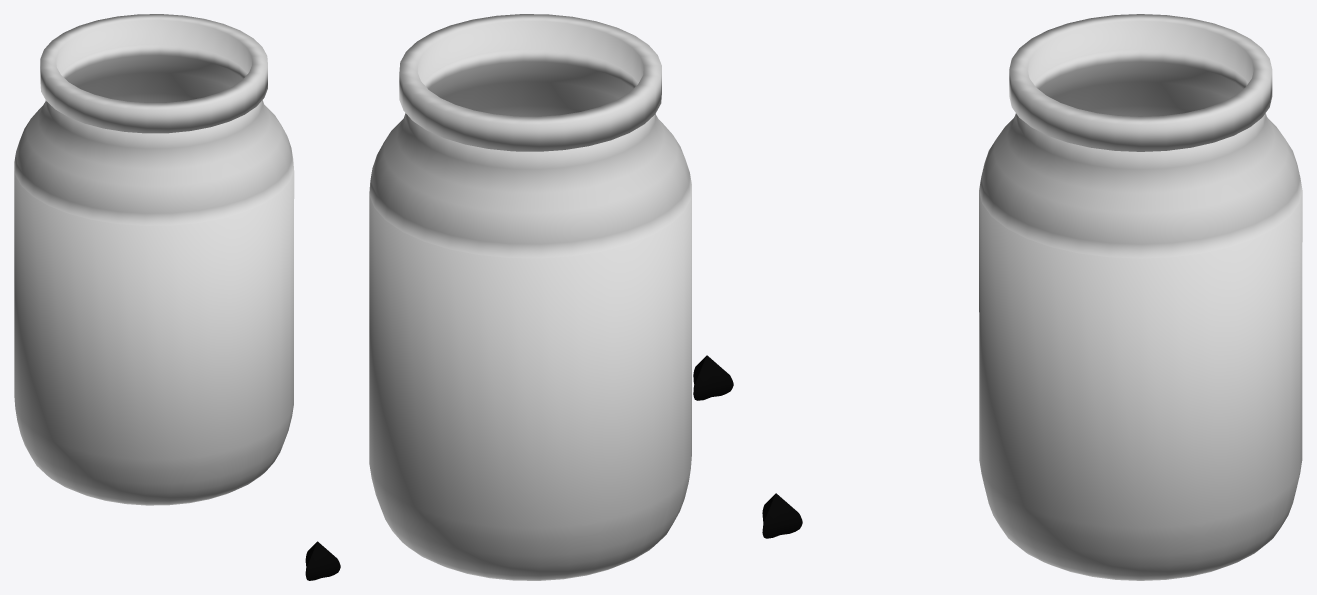
File: grechka.glb
3 views of the same model, side by side, from view 1: azimuth 30°, elevation 25°; view 2: azimuth 150°, elevation 25°; view 3: azimuth 270°, elevation 25° (orthographic). The views are drawn at different scales.
Visible parts, largest first — view 1: Cylinder, Grechka; view 2: Cylinder, Grechka; view 3: Cylinder, Grechka.
Boxes of the visible parts, x1,y1,x2,y2 form: Cylinder: [14, 14, 294, 505]; Grechka: [305, 541, 340, 580]; Cylinder: [369, 14, 691, 580]; Grechka: [693, 355, 733, 400]; Cylinder: [979, 14, 1302, 580]; Grechka: [762, 493, 802, 538].
Size of what is drawn, in the model's own units: 1.72 by 2.71 by 2.88.
3 materials, 1 textured.
